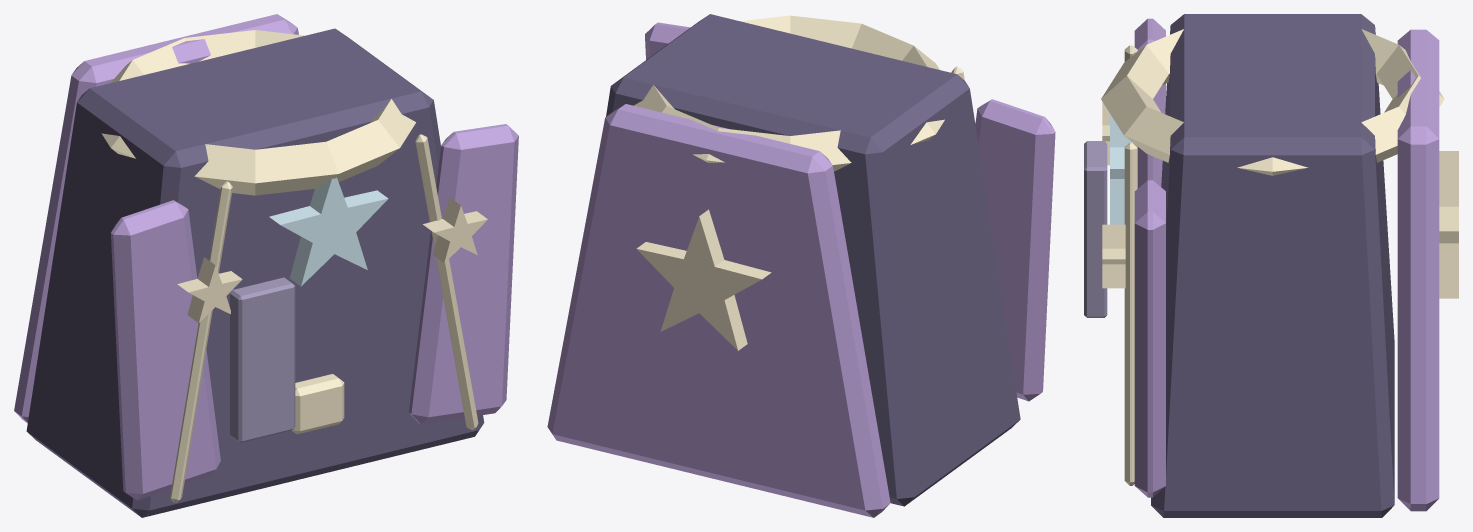
Rendered from Oracle_Defender_Torso.fbx.
3 renders of one model, left to right at view 1: azimuth 30°, elevation 25°; view 2: azimuth 150°, elevation 25°; view 3: azimuth 270°, elevation 25°, orthographic. The views are drawn at different scales.
Visible parts, largest first — view 1: Oracle_Defender_Torso; view 2: Oracle_Defender_Torso; view 3: Oracle_Defender_Torso.
Boxes of the visible parts, x1=… form: Oracle_Defender_Torso: x1=14, y1=14, x2=518, y2=517; Oracle_Defender_Torso: x1=547, y1=14, x2=1055, y2=517; Oracle_Defender_Torso: x1=1084, y1=14, x2=1458, y2=517.
Bounding box in the file's own units: 92.55 × 76 × 72.
